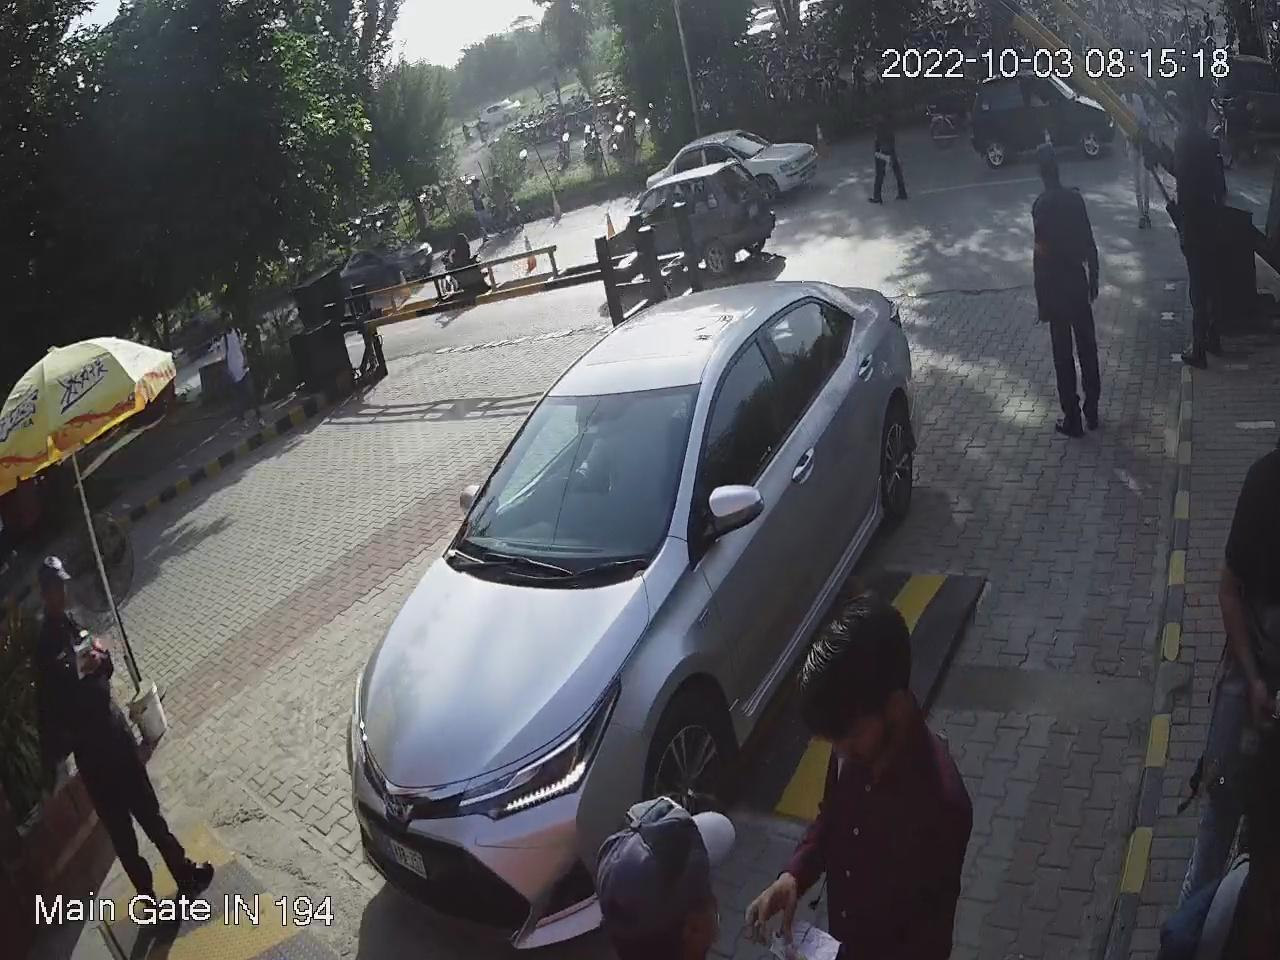windshield: (443, 380, 714, 585)
